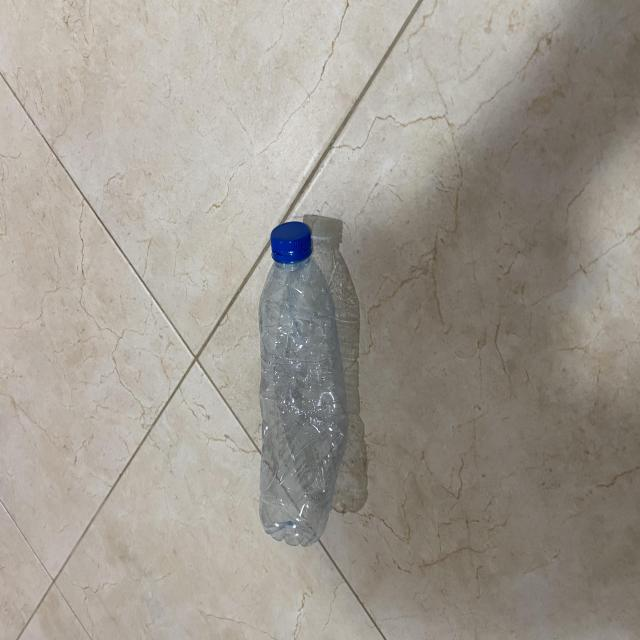bottle: (249, 222, 355, 552)
